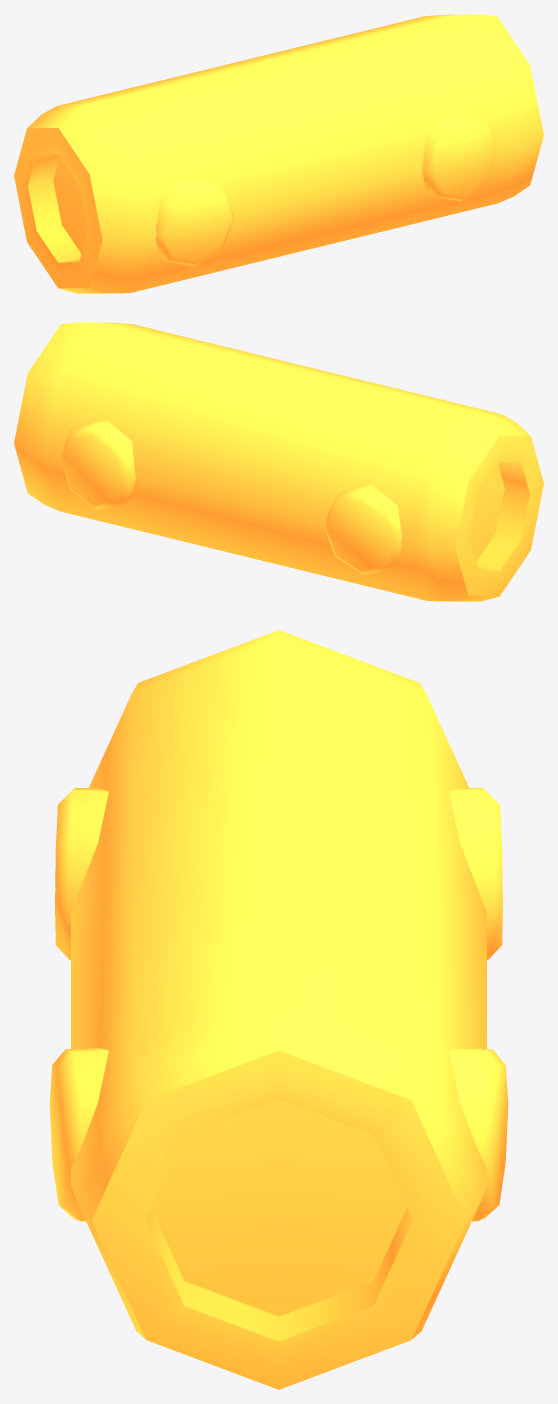
The model's file is gold_guard.glb.
3 views of the same model, one above another, from view 1: azimuth 30°, elevation 25°; view 2: azimuth 150°, elevation 25°; view 3: azimuth 270°, elevation 25° (orthographic). The views are drawn at different scales.
Visible parts, largest first — view 1: gold_guard; view 2: gold_guard; view 3: gold_guard.
Boxes of the visible parts, x1,y1,x2,y2 form: gold_guard: (14,14,543,293); gold_guard: (14,322,543,601); gold_guard: (49,630,508,1389).
Size of the model in its own units: 4.9 by 2 by 2.21.
1 material, 1 textured.
